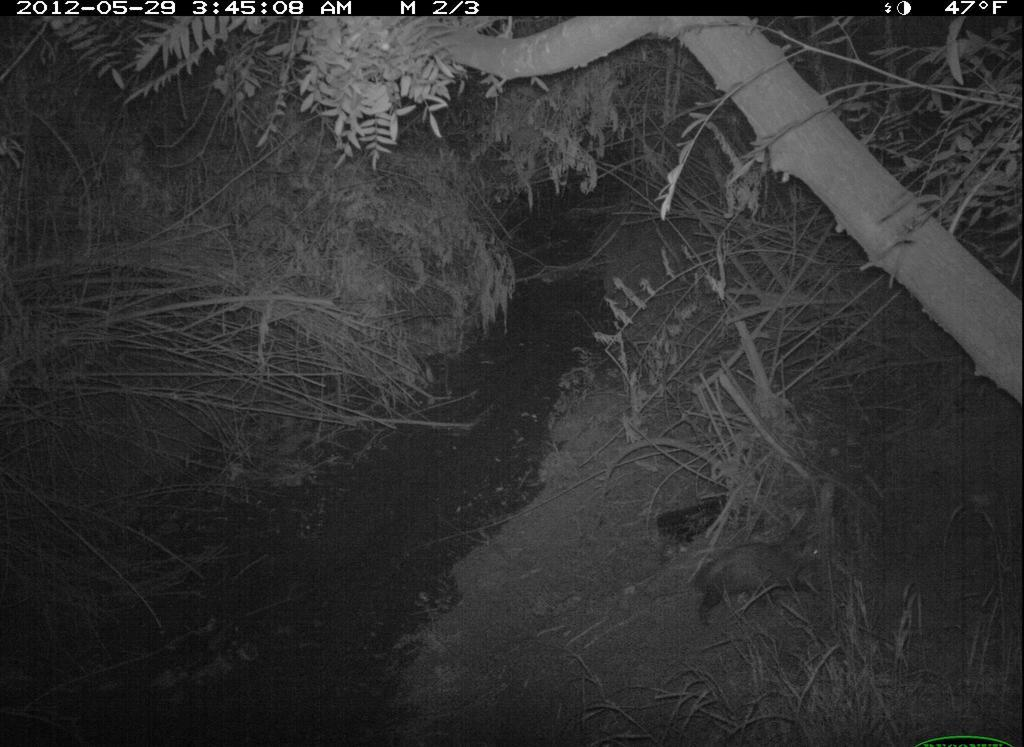opossum: (670, 521, 840, 628)
